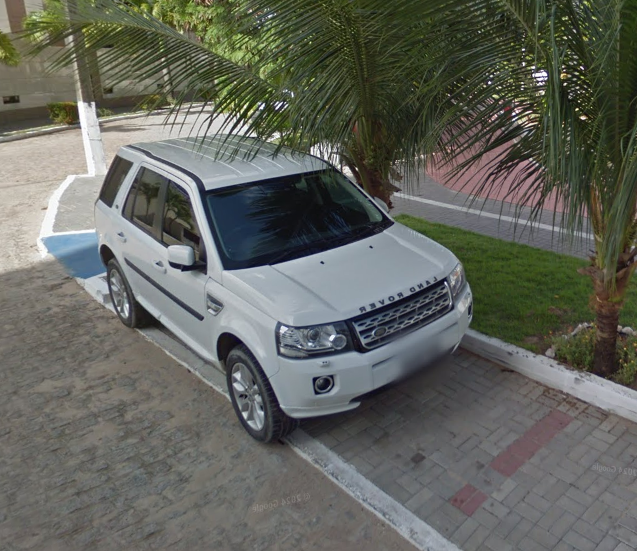car: (91, 128, 478, 446)
